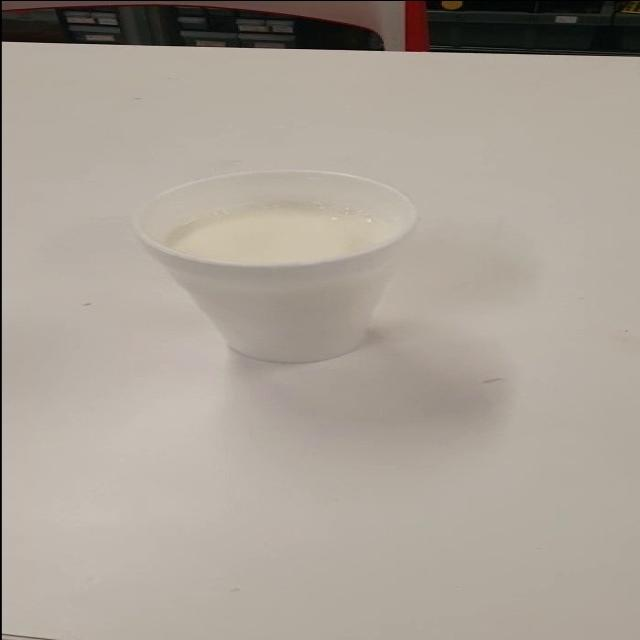Milk: (130, 160, 469, 364)
